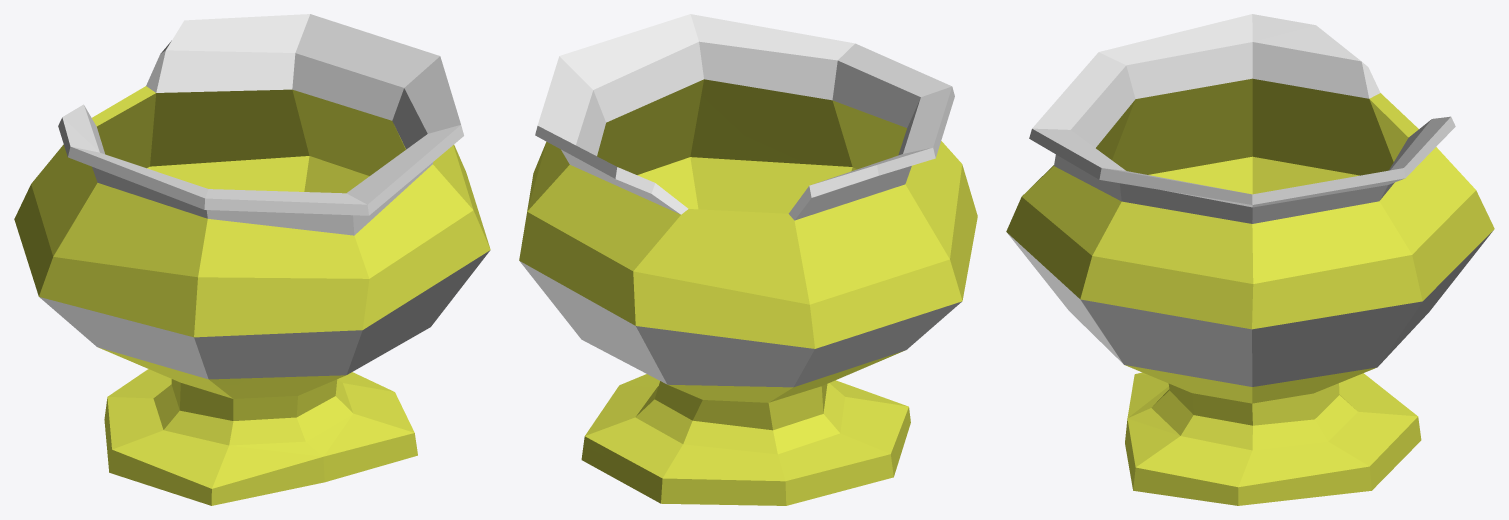
File: Vase_S_2.fbx
The picture shows the model from 3 angles, left to right: view 1: azimuth 30°, elevation 25°; view 2: azimuth 150°, elevation 25°; view 3: azimuth 270°, elevation 25°; orthographic projection.
Parts seen in each view (by area): view 1: Vase_S_2; view 2: Vase_S_2; view 3: Vase_S_2.
Boxes of the visible parts, x1,y1,x2,y2 form: Vase_S_2: (14,14,490,505); Vase_S_2: (519,14,977,505); Vase_S_2: (1006,14,1494,505).
Size of the model in its own units: 0.2224 by 0.1682 by 0.2207.
